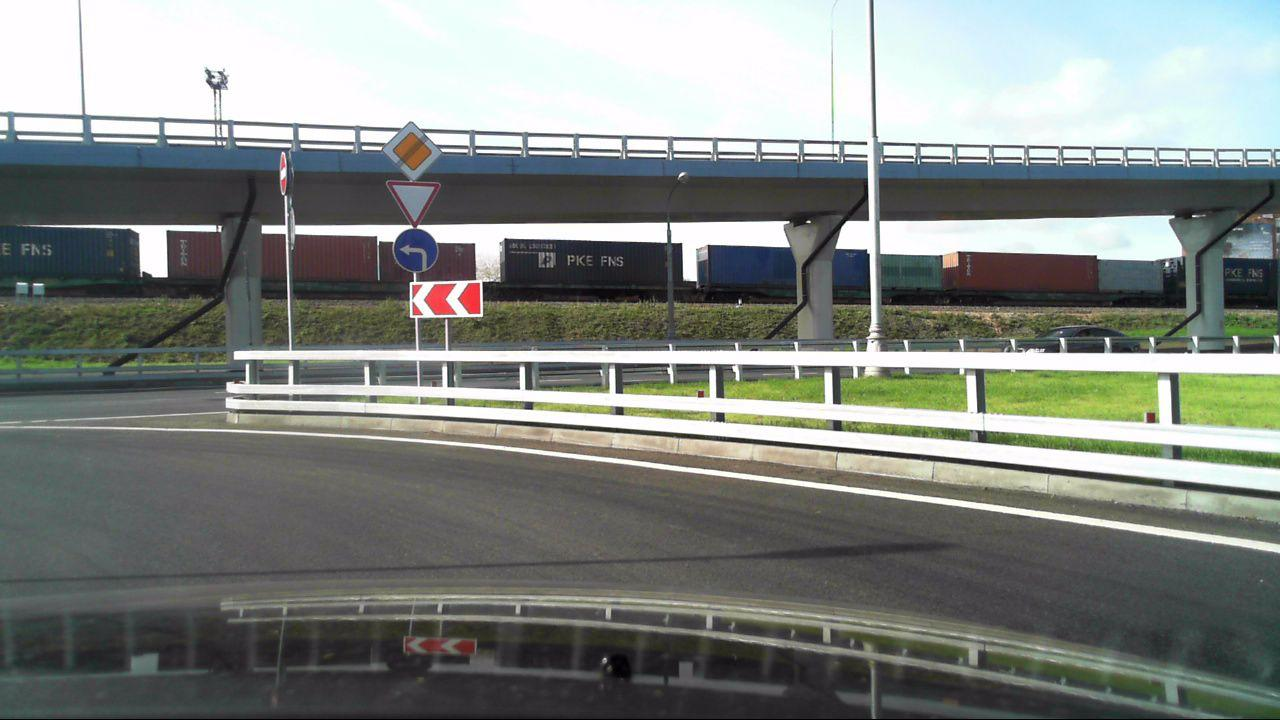1_34_2: (409, 280, 484, 319)
2_2: (382, 119, 442, 179)
2_4: (386, 178, 440, 227)
3_1: (275, 151, 292, 196)
4_1_3: (393, 228, 439, 273)
